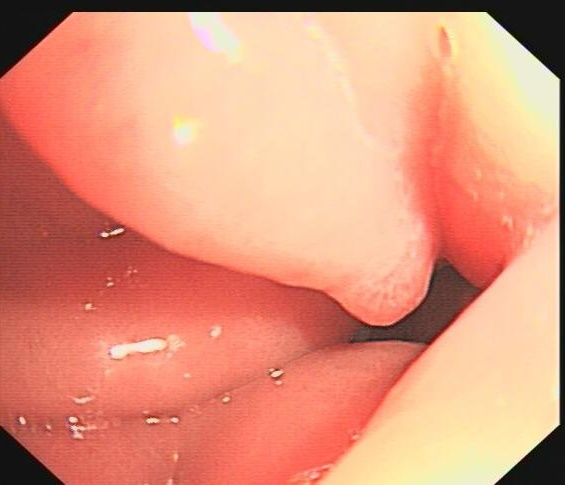Polyp: (326, 239, 445, 332)
